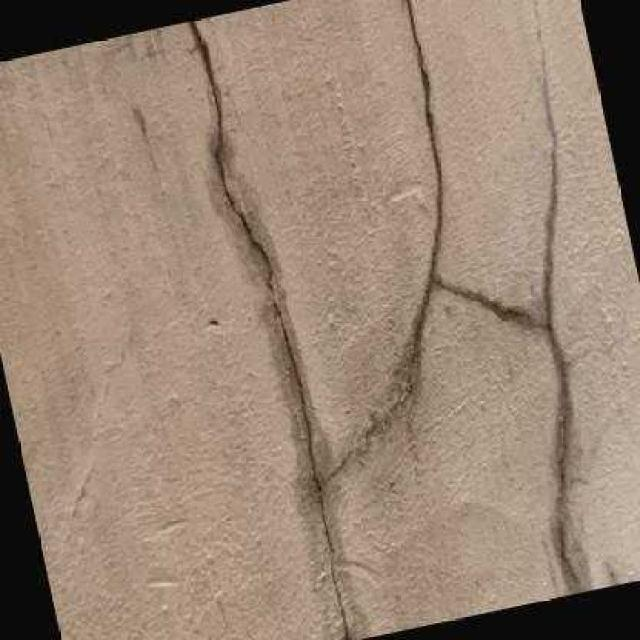D00: (182, 0, 591, 640)
